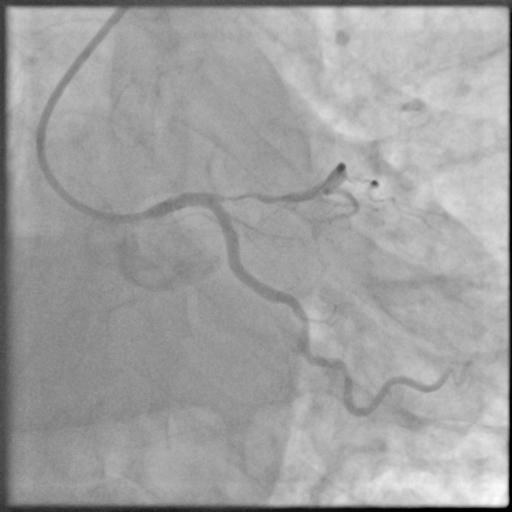Stenosis: (216, 189, 274, 204)
